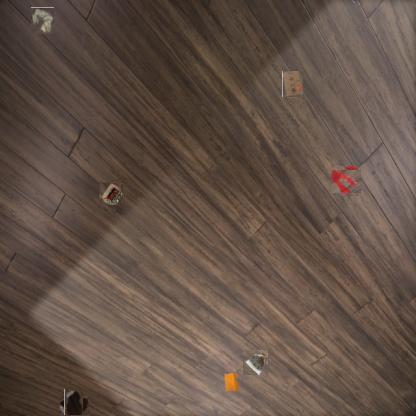dirty: (242, 350, 268, 376), (30, 8, 55, 33), (282, 71, 303, 97), (100, 182, 122, 204), (223, 370, 241, 394)
liquid: (333, 168, 359, 194), (61, 392, 86, 416)
